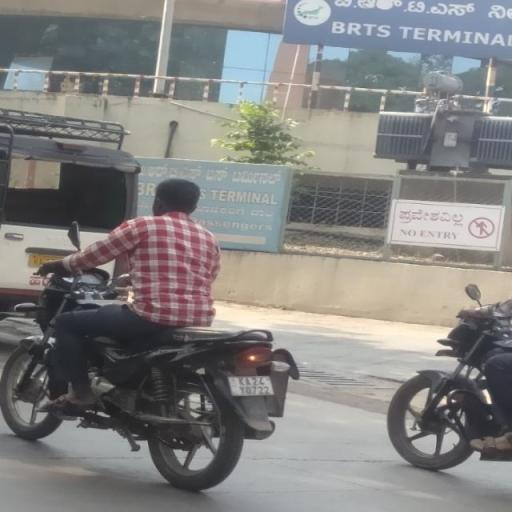bike: (3, 170, 304, 494)
numberplate: (224, 372, 277, 399)
withouthelmet: (157, 178, 198, 216)
